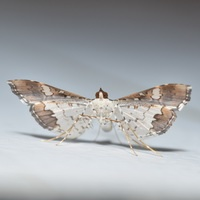insect: (8, 79, 191, 155)
